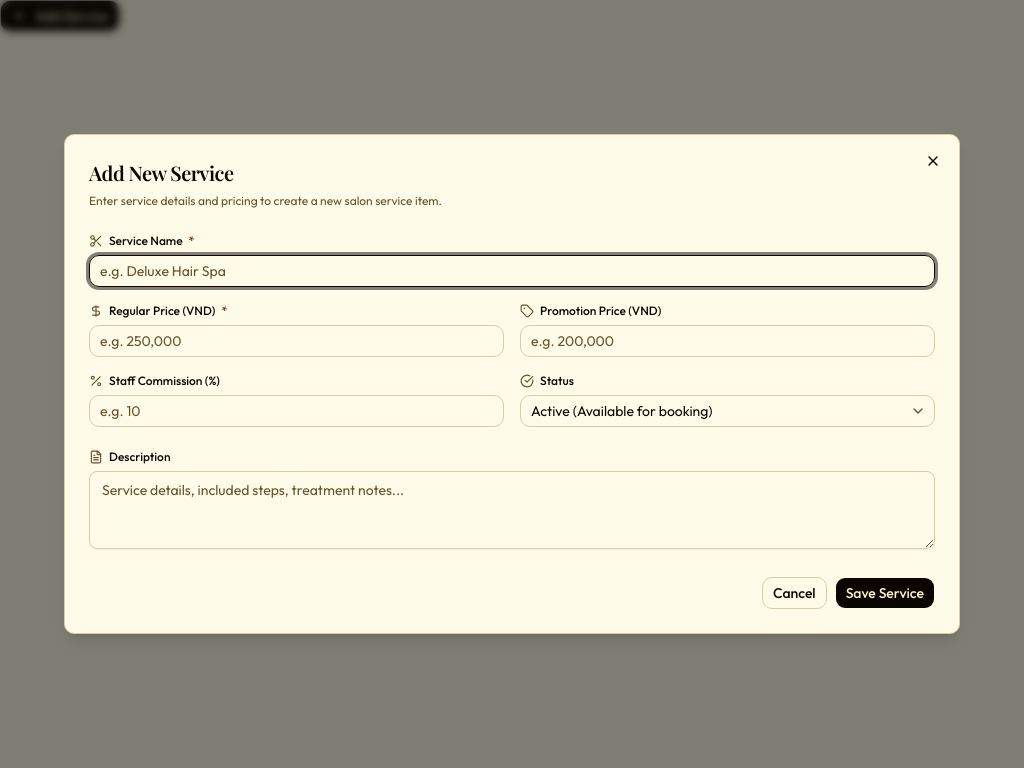
Test: ServiceFormDialog - Create Mode › validates promotion price cannot exceed regular price
Type "Hair Perm" into the field labelled "Service Name *" at x=512, y=271, box [89,255,935,287]
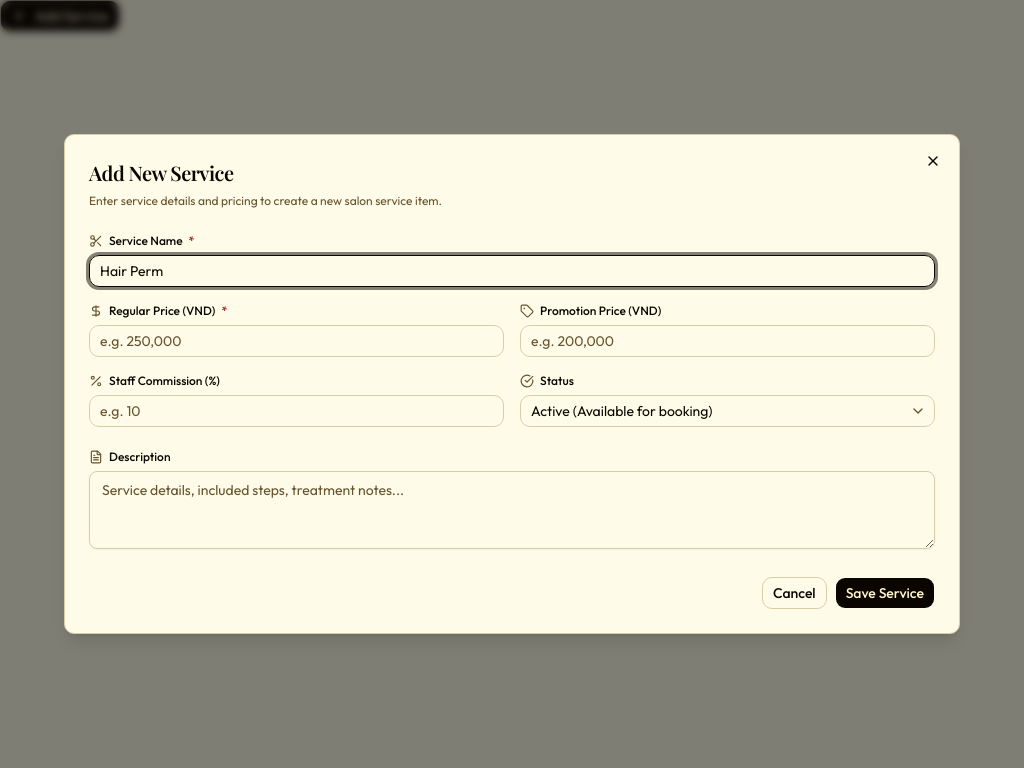
Type "500000" into the field labelled "Regular Price (VND) *" at x=296, y=341, box [89,325,504,357]
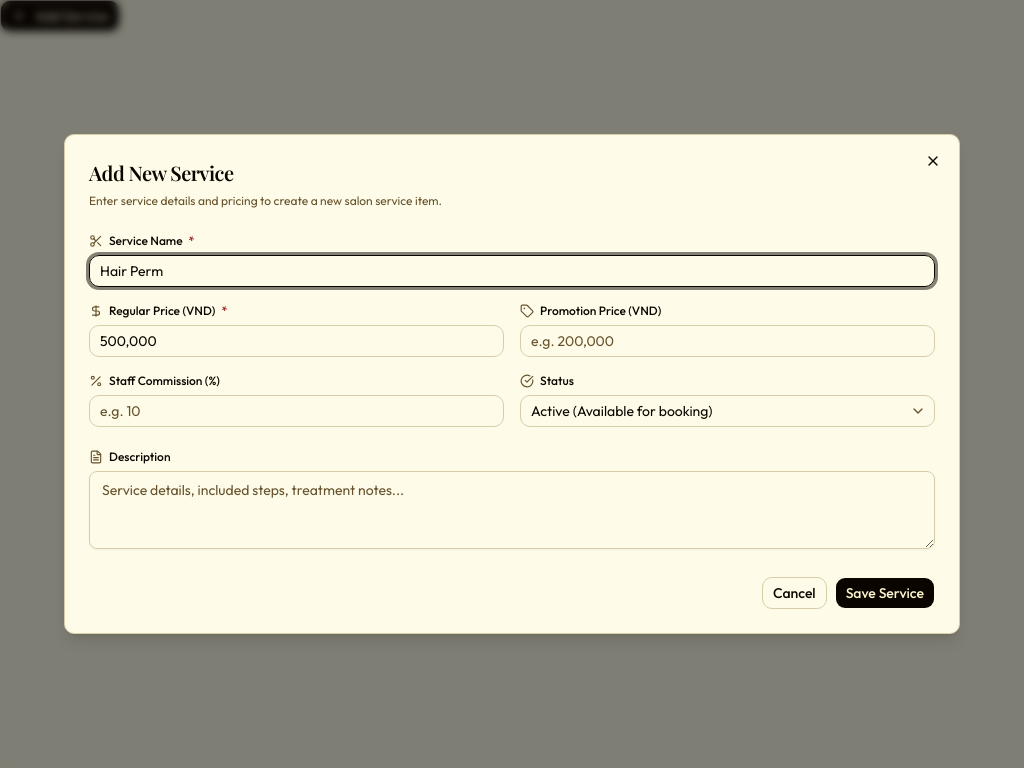
Type "600000" into the field labelled "Promotion Price (VND)" at x=728, y=341, box [520,325,935,357]
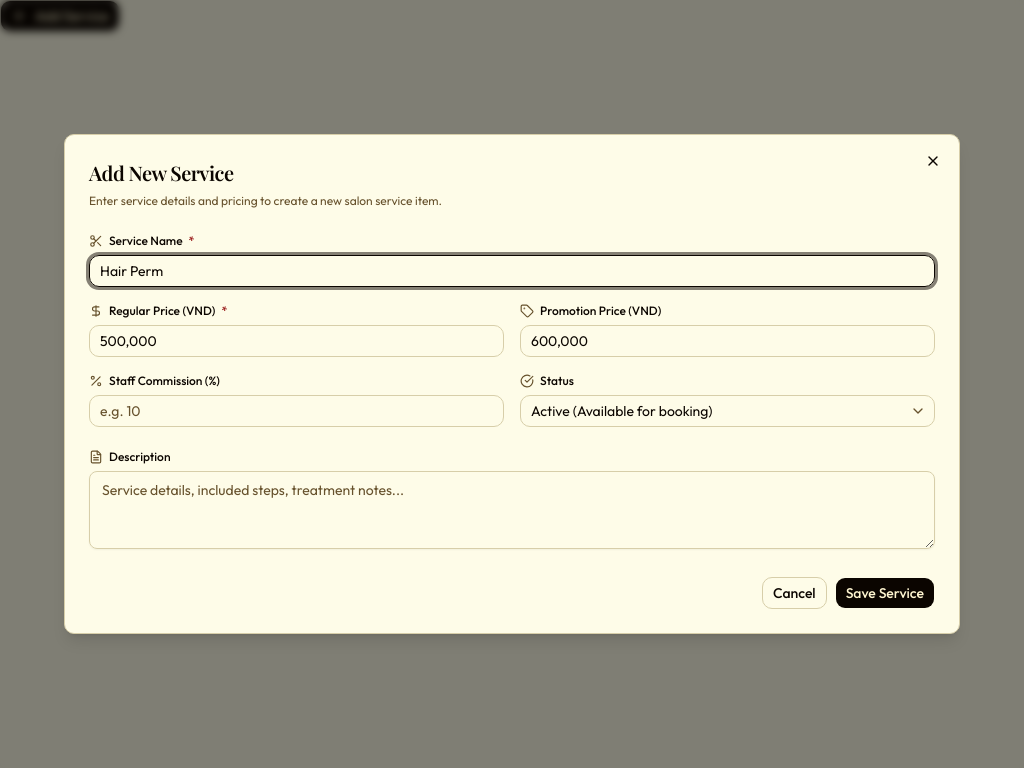
Click the button "Save Service" at x=885, y=593, box [835,577,935,609]
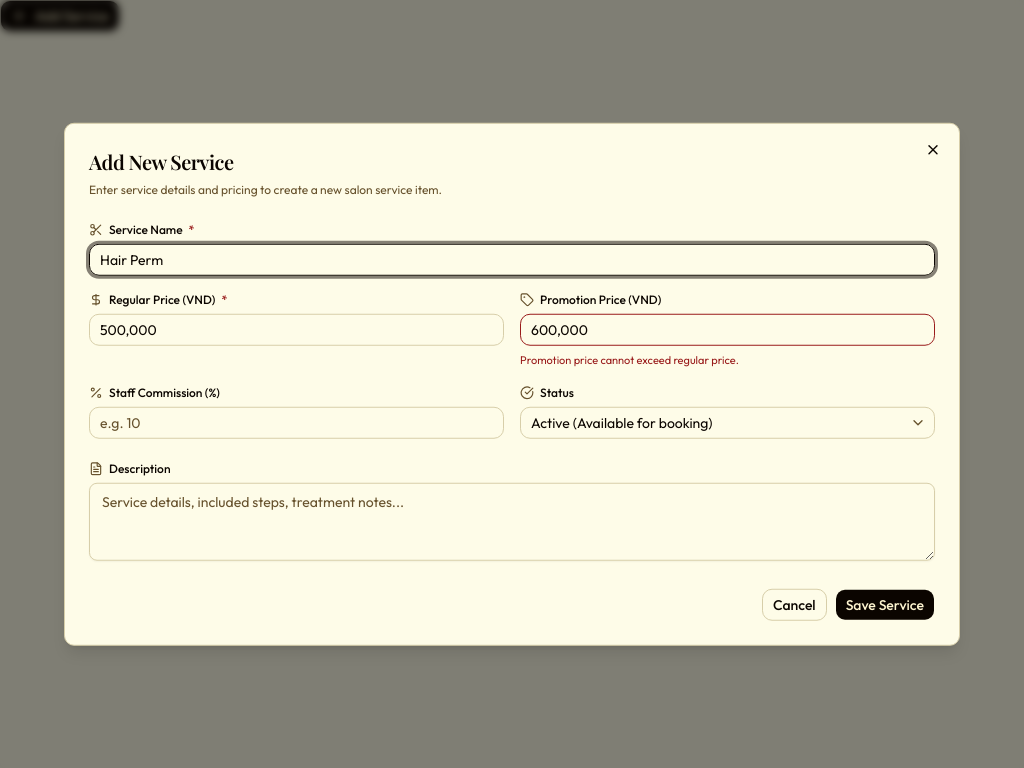
Result: the text "Promotion price cannot exceed regular price." is shown at [520,353,739,367]
